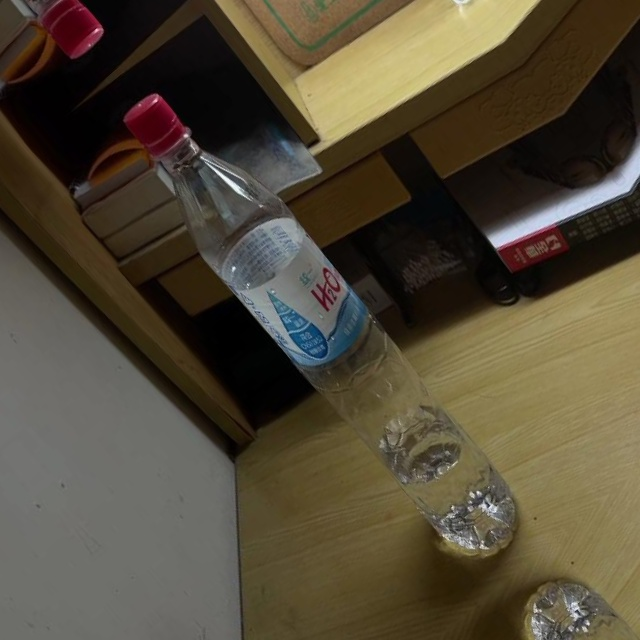Water: (98, 73, 544, 579)
